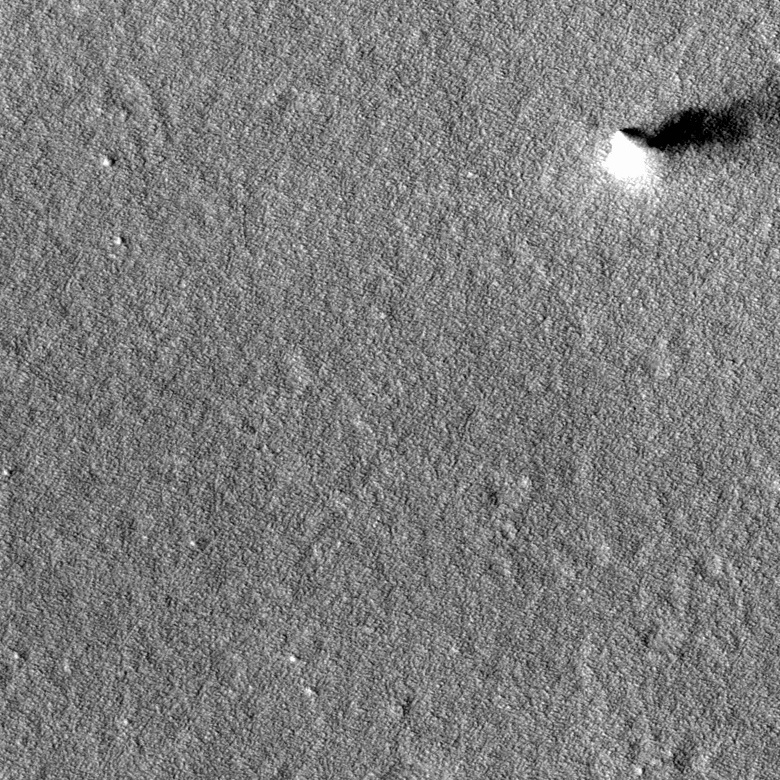dust_devil: (598, 94, 769, 194)
